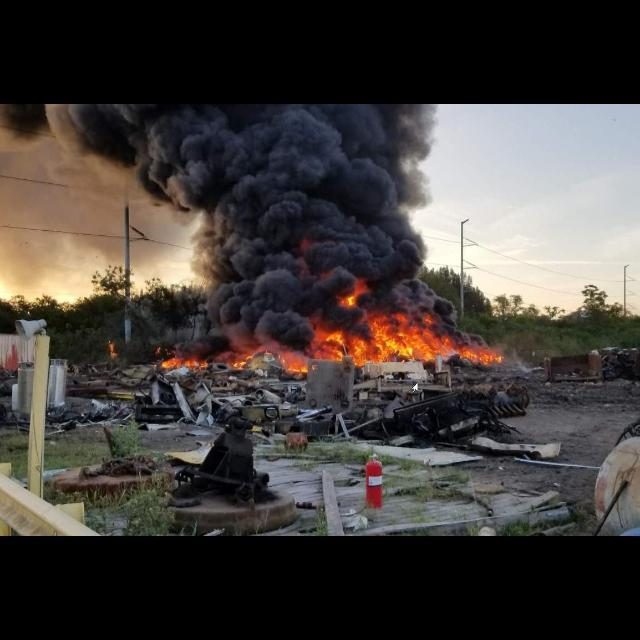Fire: (232, 296, 502, 372), (159, 358, 209, 368)
Smoke: (2, 105, 534, 375)
